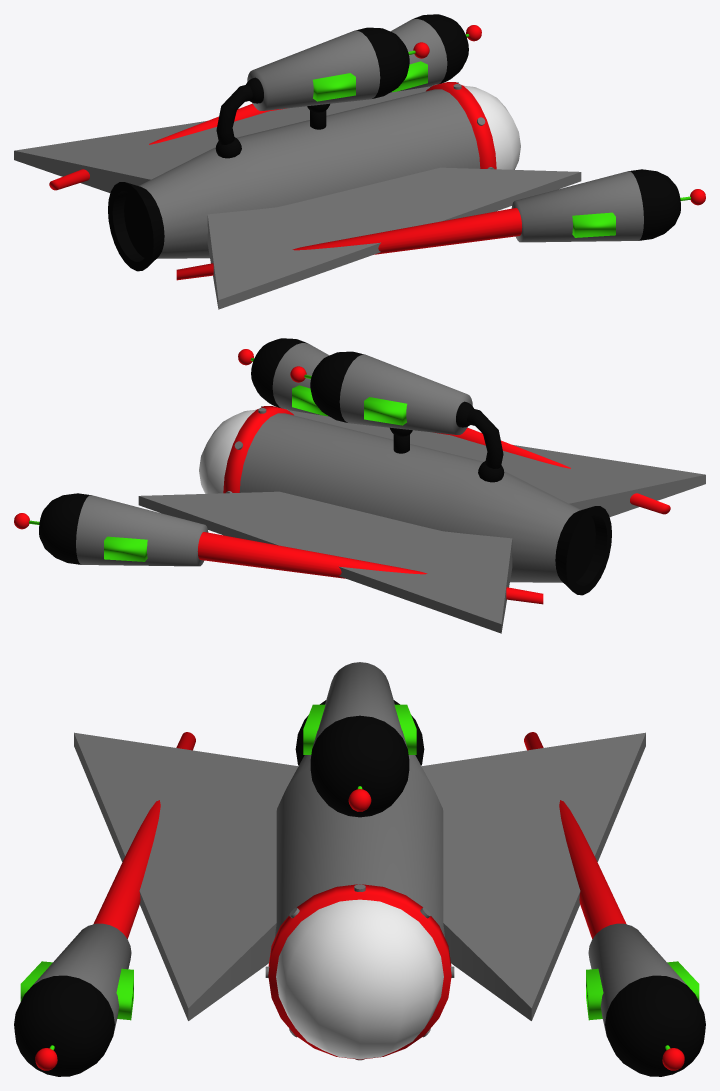
Rendered from Spaceship_weirdrotate.fbx.
3 renders of one model, top to bottom at view 1: azimuth 30°, elevation 25°; view 2: azimuth 150°, elevation 25°; view 3: azimuth 270°, elevation 25°, orthographic. The views are drawn at different scales.
Parts seen in each view (by area): view 1: Wings, Metalic part, Cannon, Cannon.001, Red part, Mate Black part, Glass sphere, Green part, Green part.001; view 2: Wings, Metalic part, Cannon, Cannon.001, Red part, Mate Black part, Glass sphere, Green part, Green part.001; view 3: Wings, Cannon, Glass sphere, Metalic part, Red part, Cannon.001, Green part, Green part.001.
Part boxes in pixels (x1,y1,x2,y2): Wings: (14,82,581,309); Metalic part: (108,84,493,271); Cannon: (390,14,680,242); Cannon.001: (247,27,409,110); Red part: (49,82,522,280); Mate Black part: (215,77,329,158); Glass sphere: (464,85,520,169); Green part: (392,34,690,237); Green part.001: (312,50,415,101); Wings: (138,406,705,633); Metalic part: (226,408,611,595); Cannon: (39,338,329,566); Cannon.001: (310,351,472,434); Red part: (197,406,670,604); Mate Black part: (390,401,504,482); Glass sphere: (199,409,255,493); Green part: (29,358,327,561); Green part.001: (304,374,407,425); Wings: (74,732,645,1020); Cannon: (14,923,705,1076); Glass sphere: (276,899,443,1059); Metalic part: (265,700,454,1060); Red part: (93,732,626,1059); Cannon.001: (310,662,409,817); Green part: (20,961,699,1050); Green part.001: (303,704,416,789).
Bounding box in the file's own units: 678 × 267 × 605.
